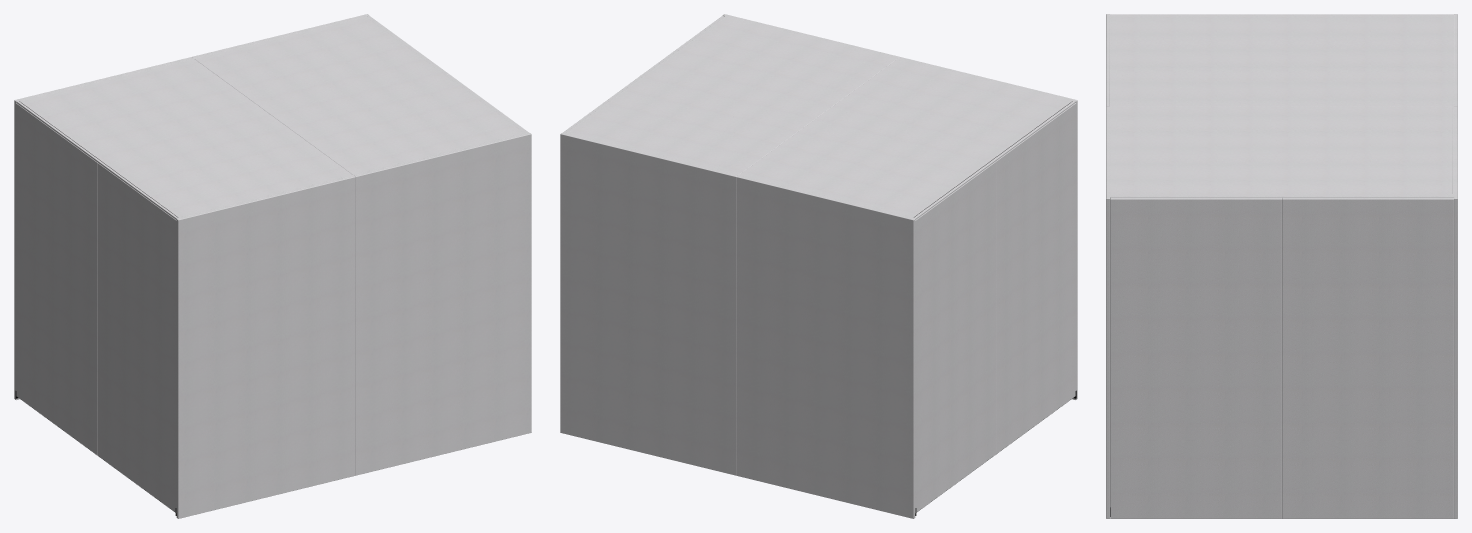
Rendered from drywall-test.glb.
3 views of the same model, side by side, from view 1: azimuth 30°, elevation 25°; view 2: azimuth 150°, elevation 25°; view 3: azimuth 270°, elevation 25° (orthographic). The views are drawn at different scales.
Visible parts, largest first — view 1: 10FT Blank_DryWall_Left_001, 10FT Blank_DryWall_RearTop_001, 10FT Blank_DryWall_Right_001; view 2: 10FT Blank_DryWall_Right_001, 10FT Blank_DryWall_RearTop_001, 10FT Blank_DryWall_Left_001; view 3: 10FT Blank_DryWall_Front_001, 10FT Blank_DryWall_RearTop_001, 10FT Blank_DryWall_Left_001, 10FT Blank_DryWall_Right_001.
Part boxes in pixels (x1=…): 10FT Blank_DryWall_Left_001: x1=175, y1=133, x2=531, y2=518; 10FT Blank_DryWall_RearTop_001: x1=15, y1=15, x2=528, y2=512; 10FT Blank_DryWall_Right_001: x1=14, y1=14, x2=369, y2=399; 10FT Blank_DryWall_Right_001: x1=560, y1=133, x2=916, y2=518; 10FT Blank_DryWall_RearTop_001: x1=563, y1=16, x2=1076, y2=512; 10FT Blank_DryWall_Left_001: x1=722, y1=14, x2=1077, y2=399; 10FT Blank_DryWall_Front_001: x1=1110, y1=199, x2=1453, y2=518; 10FT Blank_DryWall_RearTop_001: x1=1109, y1=14, x2=1454, y2=199; 10FT Blank_DryWall_Left_001: x1=1106, y1=14, x2=1110, y2=518; 10FT Blank_DryWall_Right_001: x1=1454, y1=14, x2=1457, y2=518.
Size of the model in its own units: 2.84 by 2.29 by 2.28.
Materials: 2 (1 with a texture image).
